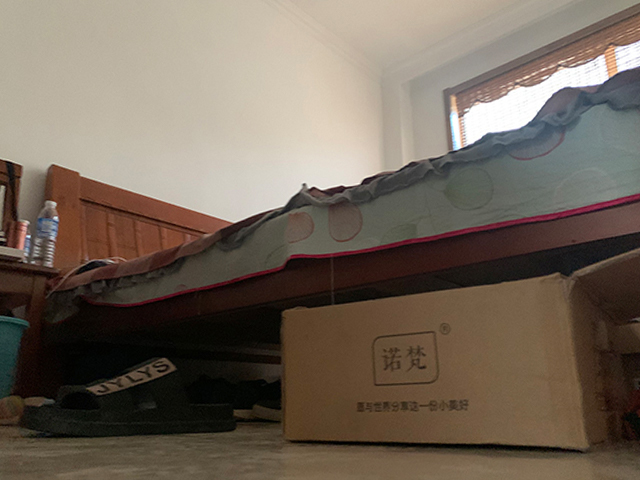bed: (20, 67, 640, 401)
slippers: (17, 354, 238, 436)
